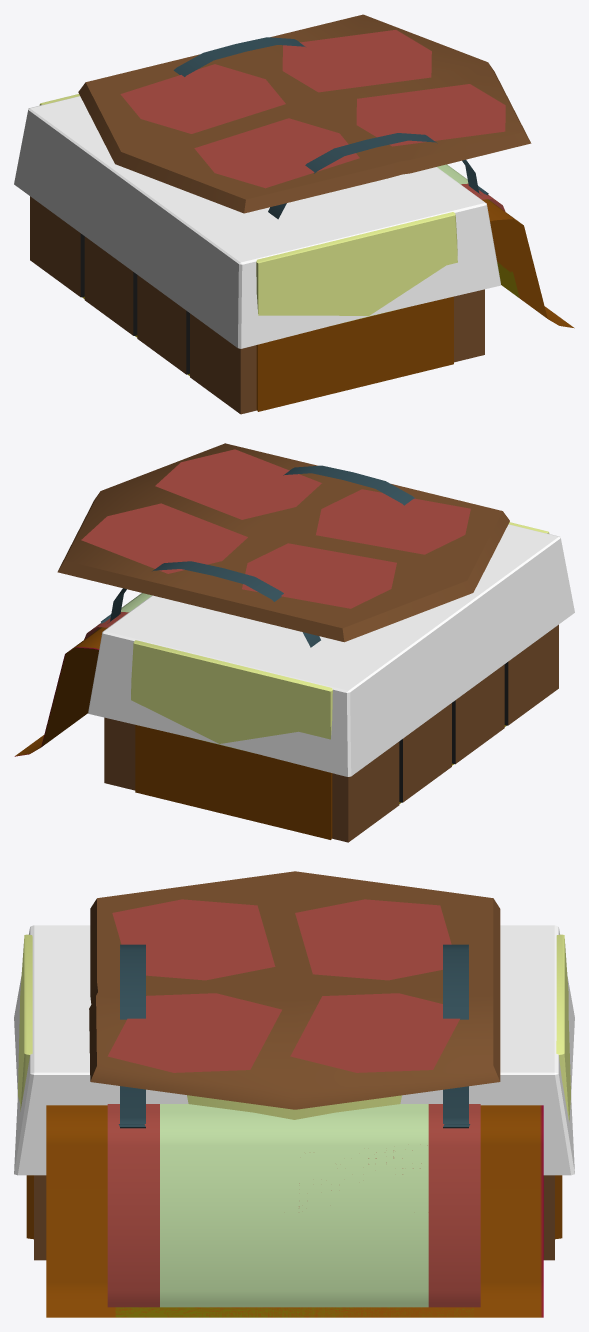
Rendered from SM_Muebles_Pueblo.fbx.
3 renders of one model, top to bottom at view 1: azimuth 30°, elevation 25°; view 2: azimuth 150°, elevation 25°; view 3: azimuth 270°, elevation 25°, orthographic. The views are drawn at different scales.
Parts seen in each view (by area): view 1: Puesto_vendedor2, Mesa, Puesto_vendedor, Banco_plaza_vallas, Banco_plaza; view 2: Puesto_vendedor2, Mesa, Puesto_vendedor, Banco_plaza, Banco_plaza_vallas; view 3: Mesa, Banco_plaza_vallas, Banco_plaza, Puesto_vendedor2, Puesto_vendedor.
Part boxes in pixels (x1,y1,x2,y2): Puesto_vendedor2: (14,96,500,414); Mesa: (78,14,531,213); Puesto_vendedor: (39,94,457,411); Banco_plaza_vallas: (82,37,519,375); Banco_plaza: (461,183,574,328); Puesto_vendedor2: (88,524,574,842); Mesa: (57,443,509,642); Puesto_vendedor: (131,522,549,839); Banco_plaza: (14,612,128,756); Banco_plaza_vallas: (94,465,506,803); Mesa: (89,871,500,1109); Banco_plaza_vallas: (115,944,473,1317); Banco_plaza: (46,1104,543,1317); Puesto_vendedor2: (14,925,574,1260); Puesto_vendedor: (18,934,570,1239).
Size of the model in its own units: 0.6754 by 0.3424 by 0.6995.
